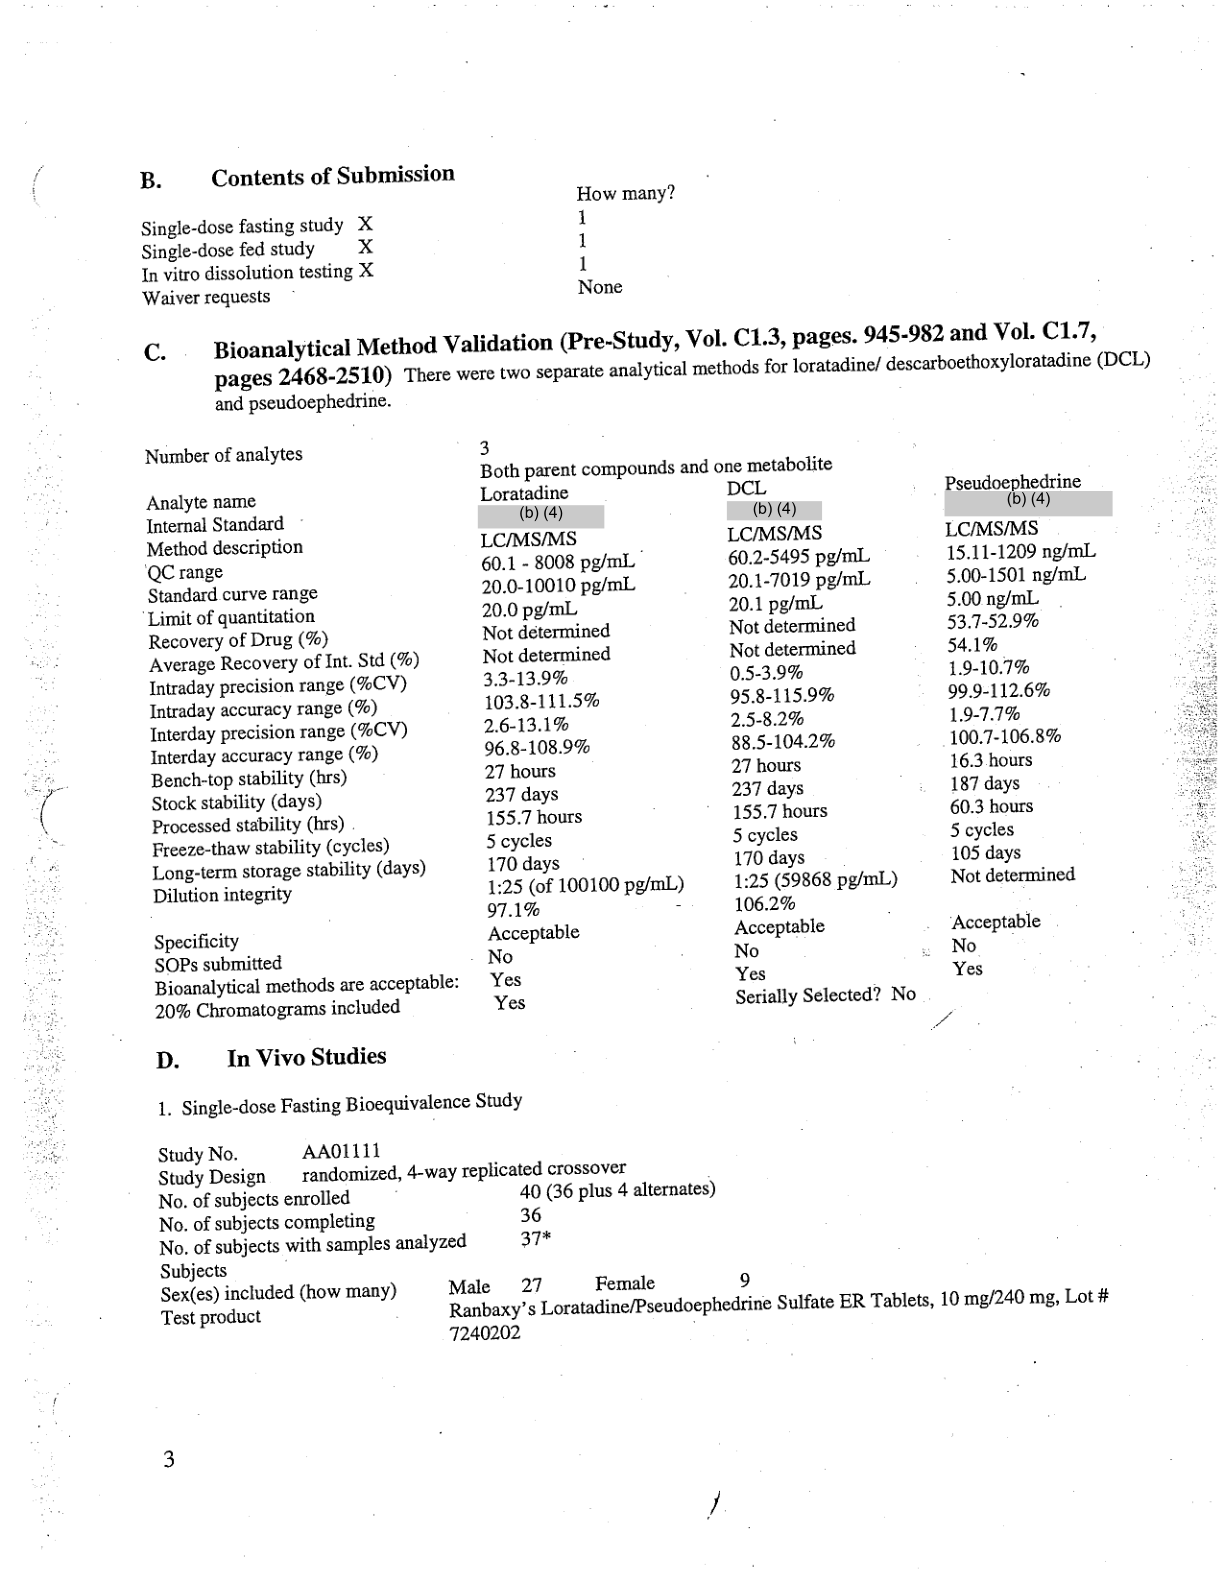nolines: (143, 444, 1114, 1020), (139, 187, 677, 307)
